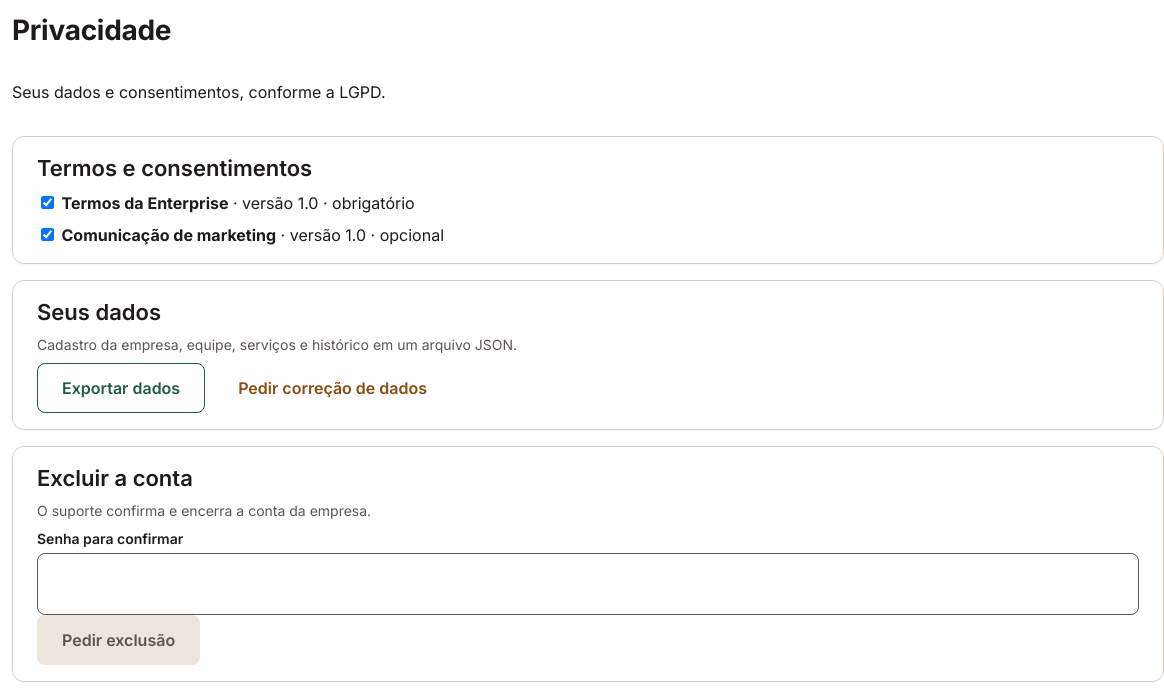
Test: UC-46 · Privacidade da empresa na web › CT-46-01: deve revogar o consentimento opcional
Click the checkbox labelled "Comunicação de marketing · versão 1.0 · opcional": (48, 234) [41,228,54,241]
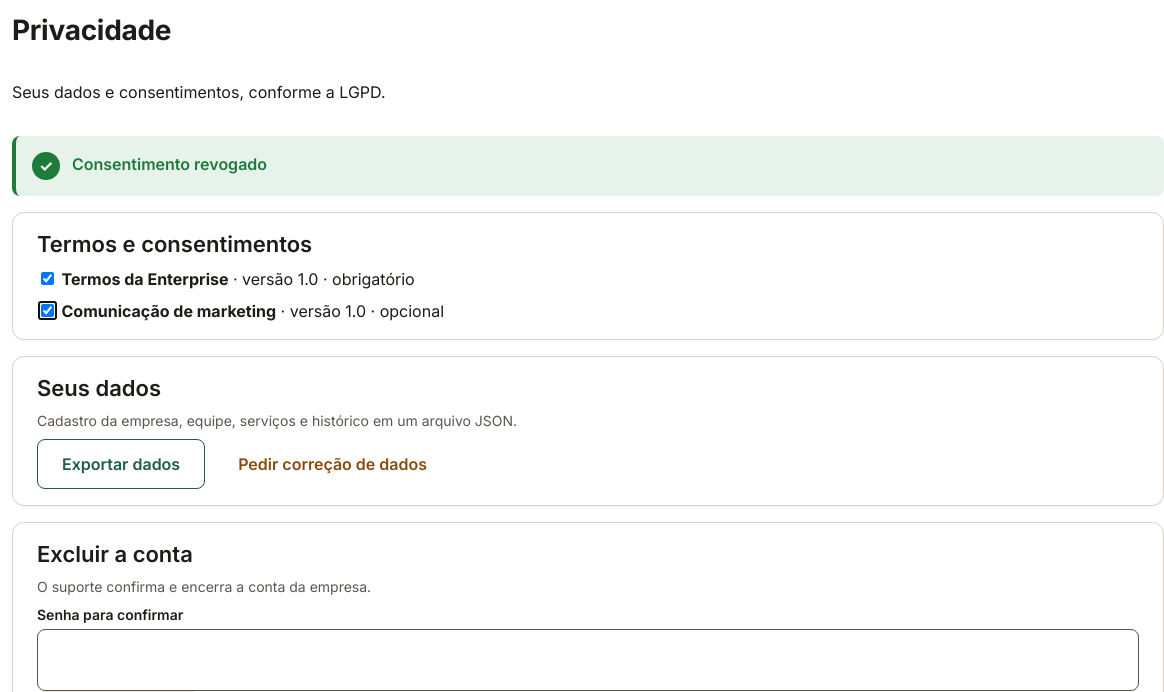
expect the text "Consentimento revogado" is shown: met, box [72,152,267,176]
